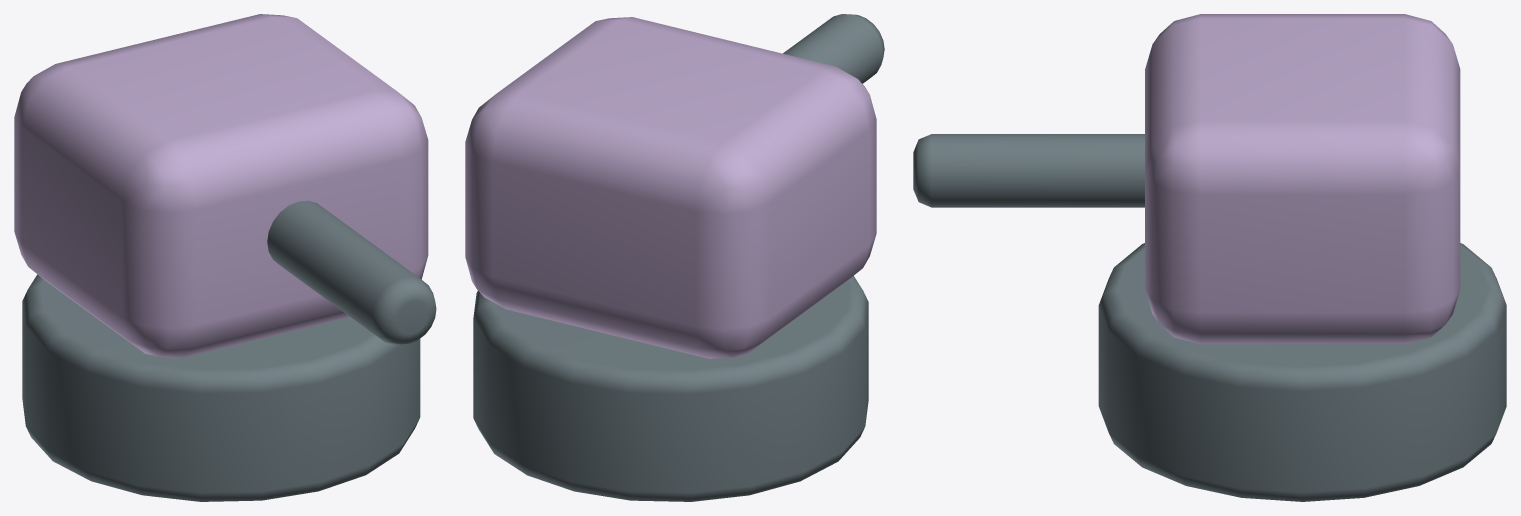
The model's file is bonus_turret.glb.
3 views of the same model, side by side, from view 1: azimuth 30°, elevation 25°; view 2: azimuth 150°, elevation 25°; view 3: azimuth 270°, elevation 25° (orthographic). The views are drawn at different scales.
Parts seen in each view (by area): view 1: Bonus turret pod, Bonus turret base, Bonus turret barrel; view 2: Bonus turret pod, Bonus turret base, Bonus turret barrel; view 3: Bonus turret pod, Bonus turret base, Bonus turret barrel.
Part boxes in pixels (left/top/right/bottom): Bonus turret pod: left=14, top=14, right=428, bottom=357; Bonus turret base: left=22, top=274, right=420, bottom=501; Bonus turret barrel: left=267, top=200, right=436, bottom=344; Bonus turret pod: left=465, top=17, right=876, bottom=358; Bonus turret base: left=473, top=276, right=868, bottom=501; Bonus turret barrel: left=783, top=14, right=884, bottom=83; Bonus turret pod: left=1145, top=14, right=1460, bottom=344; Bonus turret base: left=1098, top=243, right=1506, bottom=501; Bonus turret barrel: left=913, top=134, right=1144, bottom=207.
Size of the model in its own units: 0.44 by 0.42 by 0.64.
